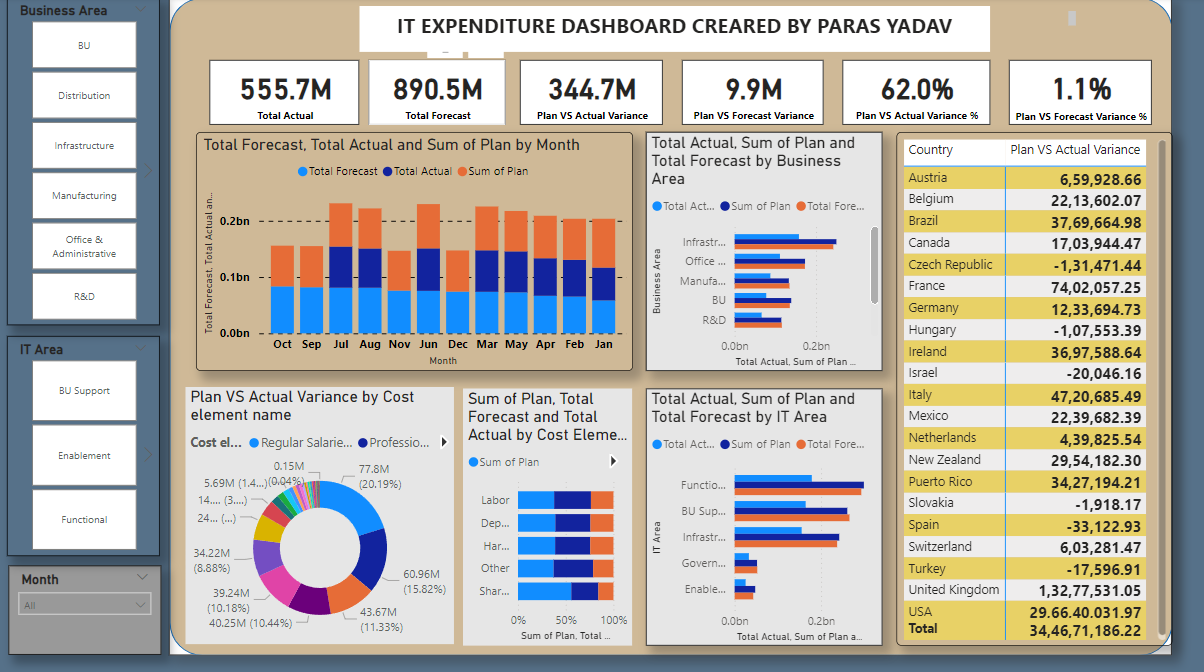

This screenshot's page, from the dashboard's own definition file:
{"tool":"powerbi","page":{"name":"Page 1","canvas":[1280,720],"ordinal":0},"visuals":[{"type":"shape","box":[182.1,0,1063.5,697.8],"z":0},{"type":"card","fields":{"Values":["Measure.Total Actual"]},"box":[224.8,67.2,158.8,68.4],"z":1000},{"type":"card","fields":{"Values":["Measure.Total Forecast"]},"box":[392.2,67.2,145.4,68.4],"z":2000},{"type":"card","fields":{"Values":["Measure.Plan VS Actual Variance"]},"box":[553.5,67.2,151.5,68.4],"z":3000},{"type":"card","fields":{"Values":["Measure.Plan VS Actual Variance %"]},"box":[895.6,67.2,156.4,68.4],"z":4000},{"type":"card","fields":{"Values":["Measure.Plan VS Forecast Variance"]},"box":[725.8,67.2,150.3,68.4],"z":5000},{"type":"card","fields":{"Values":["Measure.Plan VS Forecast Variance %"]},"box":[1072.8,67.2,151.5,68.4],"z":6000},{"type":"pivotTable","fields":{"Rows":["Data.Country"],"Values":["Measure.Plan VS Actual Variance"]},"box":[952.8,142.8,292.8,544.9],"z":7000},{"type":"columnChart","fields":{"Category":["Data.Month"],"Y":["Measure.Total Forecast","Measure.Total Actual","Sum(Data.Plan)"]},"box":[209.8,142.8,463.3,253.5],"z":8000},{"type":"donutChart","fields":{"Y":["Measure.Plan VS Actual Variance"],"Category":["Data.Cost element name"]},"box":[199.2,414.2,284.7,272.5],"z":9000},{"type":"hundredPercentStackedBarChart","fields":{"Y":["Sum(Data.Plan)","Measure.Total Forecast","Measure.Total Actual"],"Category":["Data.Cost Element Group"]},"box":[493.9,415.2,179.2,272.4],"z":10000},{"type":"clusteredBarChart","fields":{"Y":["Measure.Total Actual","Sum(Data.Plan)","Measure.Total Forecast"],"Category":["Data.Business Area"]},"box":[687.6,142.8,250.6,253.5],"z":11000},{"type":"clusteredBarChart","fields":{"Y":["Measure.Total Actual","Sum(Data.Plan)","Measure.Total Forecast"],"Category":["Data.IT Area"]},"box":[687.6,415.2,250.6,272.4],"z":12000},{"type":"slicer","fields":{"Values":["Data.Business Area"]},"box":[10.2,0,161.7,348.2],"z":13000},{"type":"slicer","fields":{"Values":["Data.Month"]},"box":[11.7,603.1,161.7,94.7],"z":14000},{"type":"textbox","box":[327.8,10.2,820.2,33.5],"z":15000},{"type":"textbox","box":[383.7,9.8,668.4,48.9],"z":16000},{"type":"slicer","fields":{"Values":["Data.IT Area"]},"box":[10.2,359.8,161.7,233.1],"z":17000}]}

Visuals, with their boxes on the page's 1280x720 design canvas (x1, y1, x2, y2). These are canvas units, not pixel positions in the 1204x672 screenshot, which may show the page scaled, cropped or inside an application window:
shape: (left=182, top=0, right=1246, bottom=698)
card - Measure.Total Actual: (left=225, top=67, right=384, bottom=136)
card - Measure.Total Forecast: (left=392, top=67, right=538, bottom=136)
card - Measure.Plan VS Actual Variance: (left=554, top=67, right=705, bottom=136)
card - Measure.Plan VS Actual Variance %: (left=896, top=67, right=1052, bottom=136)
card - Measure.Plan VS Forecast Variance: (left=726, top=67, right=876, bottom=136)
card - Measure.Plan VS Forecast Variance %: (left=1073, top=67, right=1224, bottom=136)
pivotTable - Data.Country x Measure.Plan VS Actual Variance: (left=953, top=143, right=1246, bottom=688)
columnChart - Data.Month x Measure.Total Forecast: (left=210, top=143, right=673, bottom=396)
donutChart - Measure.Plan VS Actual Variance x Data.Cost element name: (left=199, top=414, right=484, bottom=687)
hundredPercentStackedBarChart - Sum(Data.Plan) x Measure.Total Forecast: (left=494, top=415, right=673, bottom=688)
clusteredBarChart - Measure.Total Actual x Sum(Data.Plan): (left=688, top=143, right=938, bottom=396)
clusteredBarChart - Measure.Total Actual x Sum(Data.Plan): (left=688, top=415, right=938, bottom=688)
slicer - Data.Business Area: (left=10, top=0, right=172, bottom=348)
slicer - Data.Month: (left=12, top=603, right=173, bottom=698)
textbox: (left=328, top=10, right=1148, bottom=44)
textbox: (left=384, top=10, right=1052, bottom=59)
slicer - Data.IT Area: (left=10, top=360, right=172, bottom=593)
